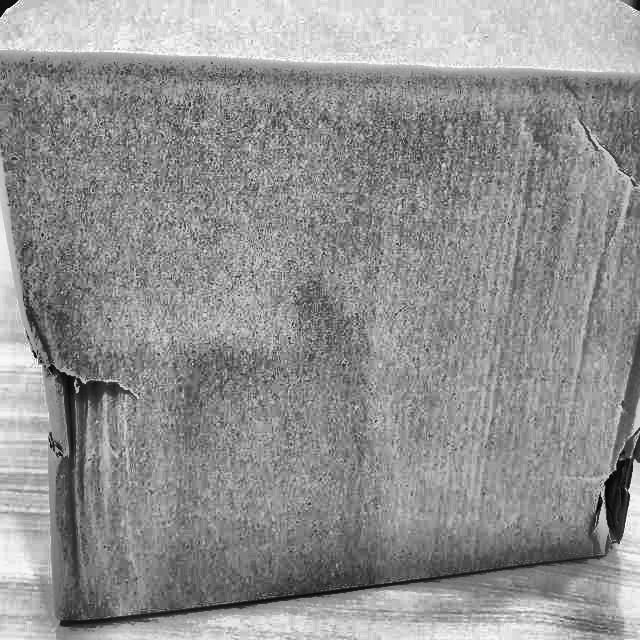box: (0, 0, 639, 636)
hole: (31, 337, 165, 480), (588, 443, 640, 551)
